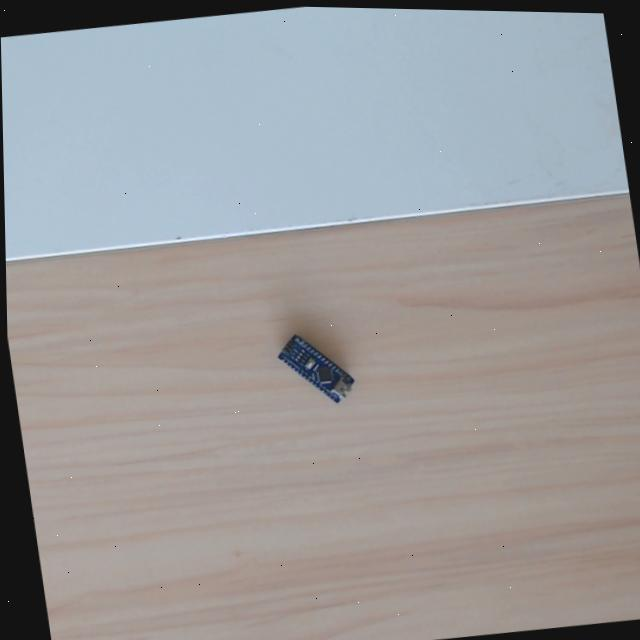Arduino-Nano: (273, 333, 359, 408)
